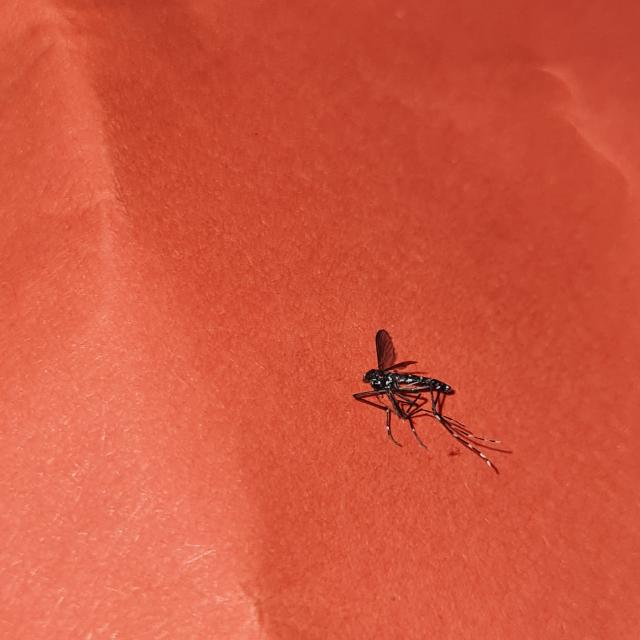albopictus: (340, 323, 512, 474)
